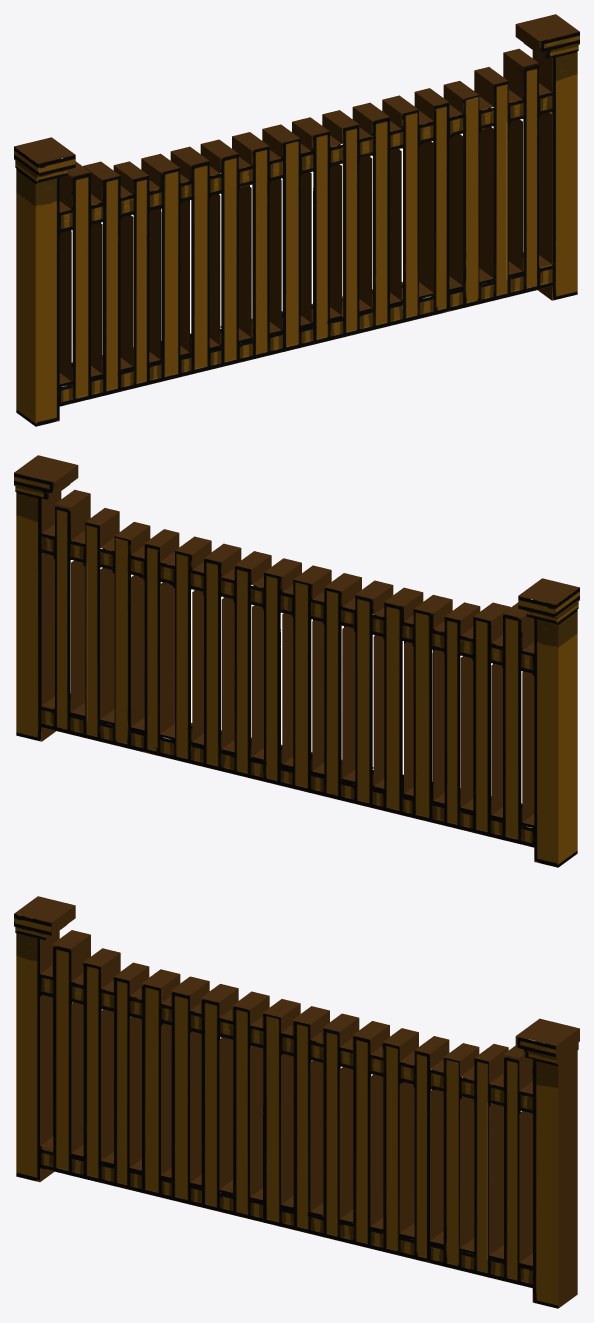
File: Fence.fbx
The picture shows the model from 3 angles, top to bottom: view 1: azimuth 30°, elevation 25°; view 2: azimuth 150°, elevation 25°; view 3: azimuth 330°, elevation 25°; orthographic projection.
Parts seen in each view (by area): view 1: pCube3; view 2: pCube3; view 3: pCube3.
Part boxes in pixels (x1,y1,x2,y2): pCube3: (14, 14, 579, 426); pCube3: (14, 455, 579, 867); pCube3: (14, 896, 579, 1308).
Size of the model in its own units: 1.81 by 0.8433 by 0.1385.
2 materials, 1 textured.
